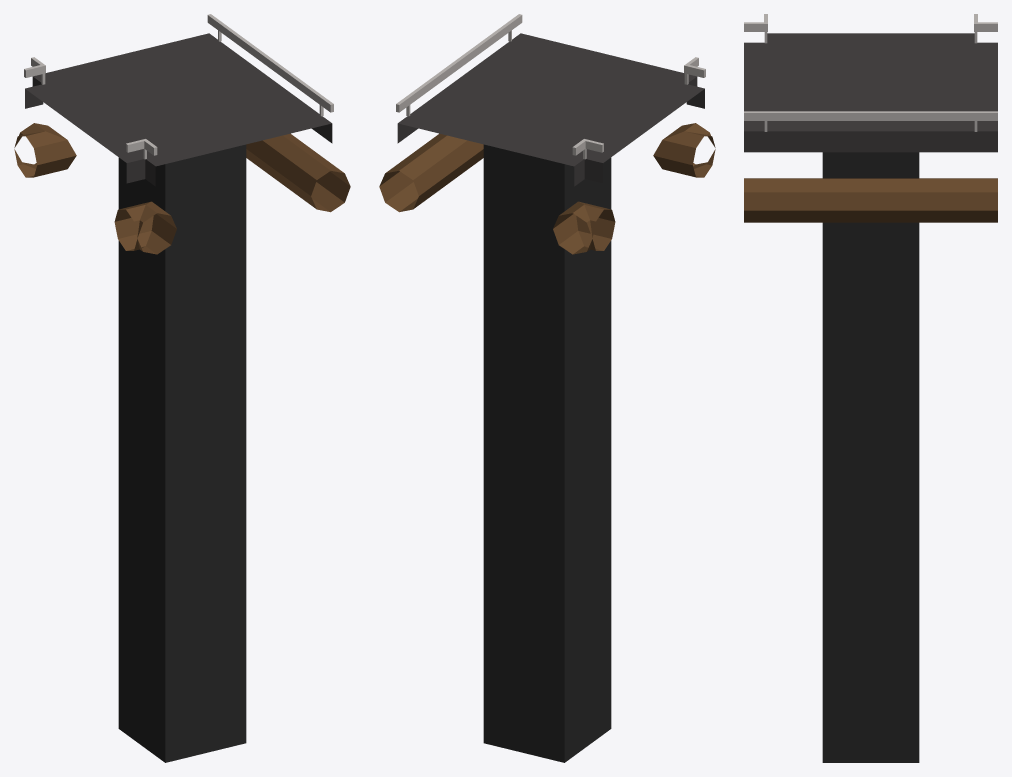
Rendered from road_T_type_01.fbx.
3 views of the same model, side by side, from view 1: azimuth 30°, elevation 25°; view 2: azimuth 150°, elevation 25°; view 3: azimuth 270°, elevation 25° (orthographic). The views are drawn at different scales.
Visible parts, largest first — view 1: road_T_type_01; view 2: road_T_type_01; view 3: road_T_type_01.
Boxes of the visible parts, x1,y1,x2,y2 form: road_T_type_01: (14,14,350,762); road_T_type_01: (379,14,715,762); road_T_type_01: (744,14,997,762).
Bounding box in the file's own units: 362 × 1063 × 362.
1 material, 1 textured.
